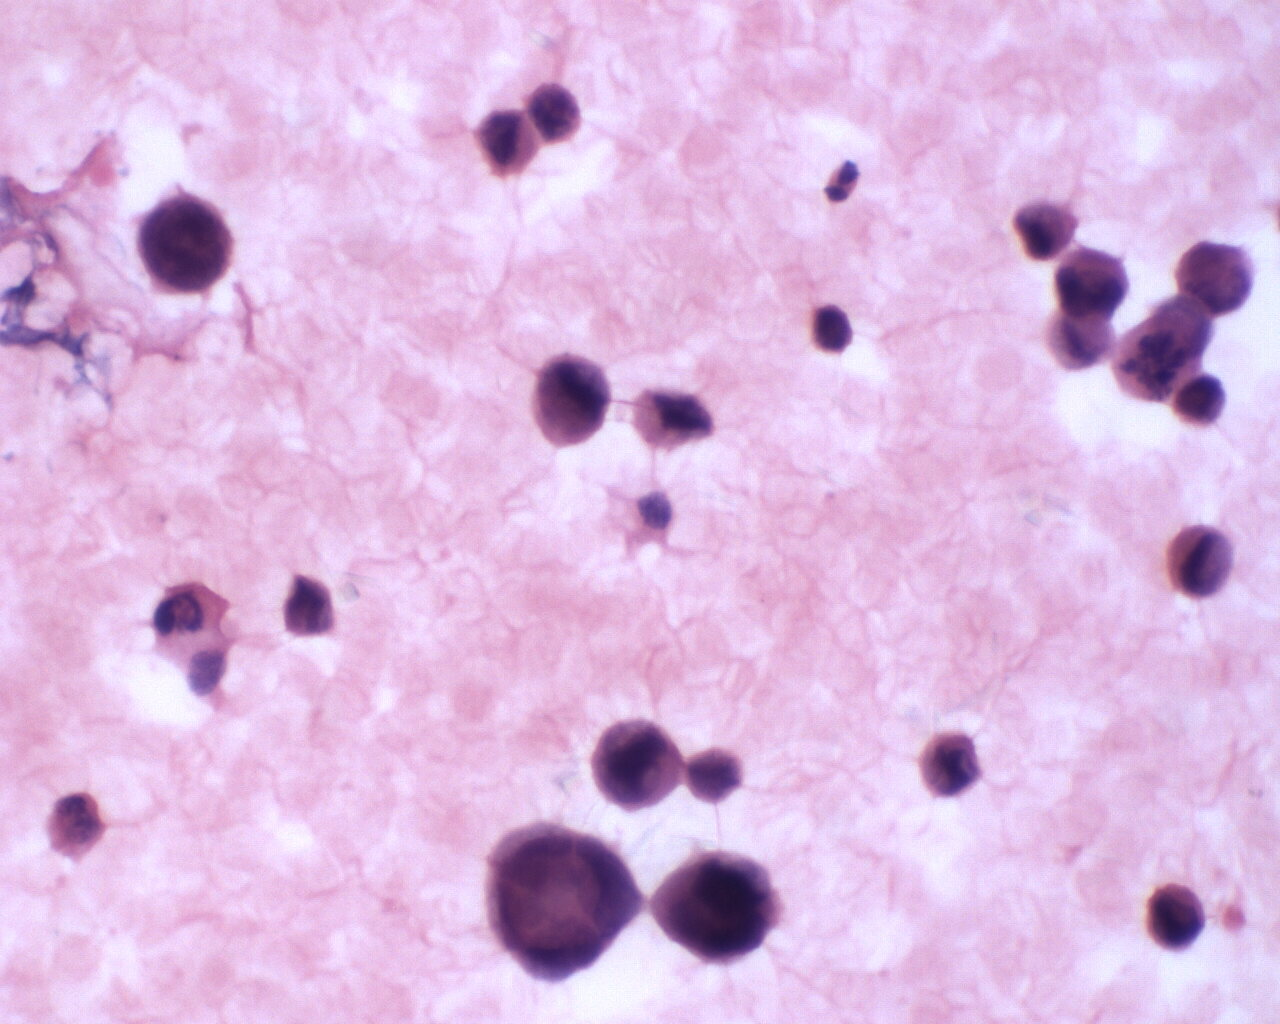ab: (485, 817, 650, 985), (646, 841, 783, 970), (129, 184, 239, 303), (594, 715, 694, 816), (529, 347, 615, 455), (1051, 241, 1131, 323), (1163, 520, 1240, 601), (1143, 878, 1210, 959), (917, 732, 980, 801), (1171, 372, 1230, 426)
